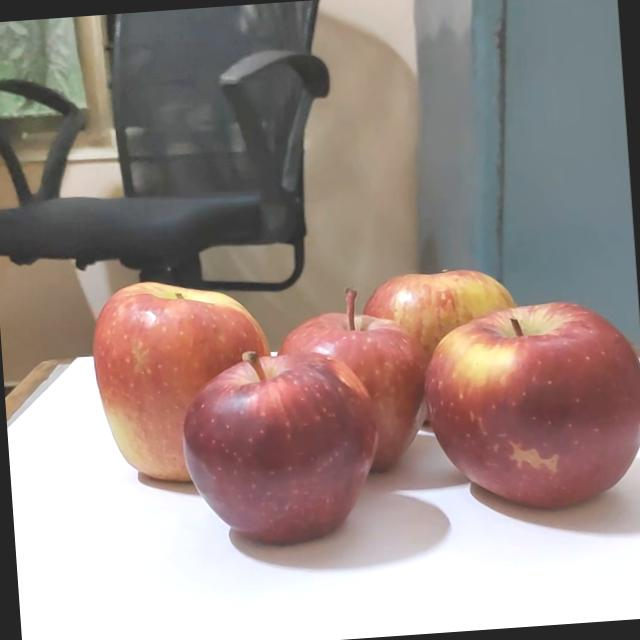apple: (411, 292, 640, 523), (170, 336, 393, 556), (85, 266, 289, 490), (270, 274, 444, 486), (358, 267, 536, 429)
